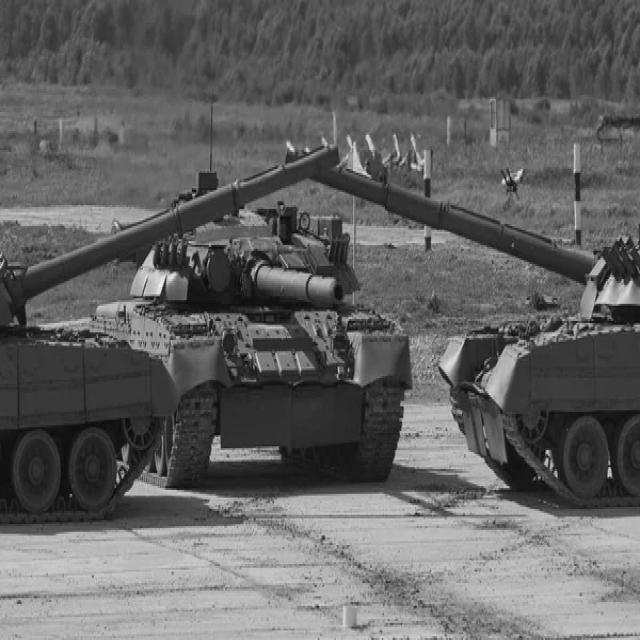Tank: (0, 141, 343, 523), (320, 144, 640, 506), (109, 177, 416, 492)
